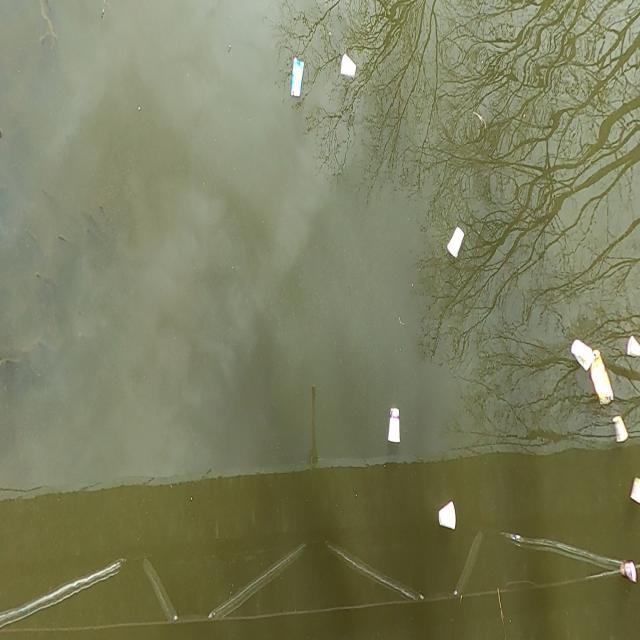Autre plastique: (572, 340, 594, 371), (448, 227, 464, 259), (439, 502, 455, 529), (614, 416, 628, 442), (389, 409, 399, 442), (342, 54, 356, 77), (622, 561, 636, 582), (631, 476, 640, 503), (628, 337, 640, 357)
Non plastique: (592, 352, 614, 404)
